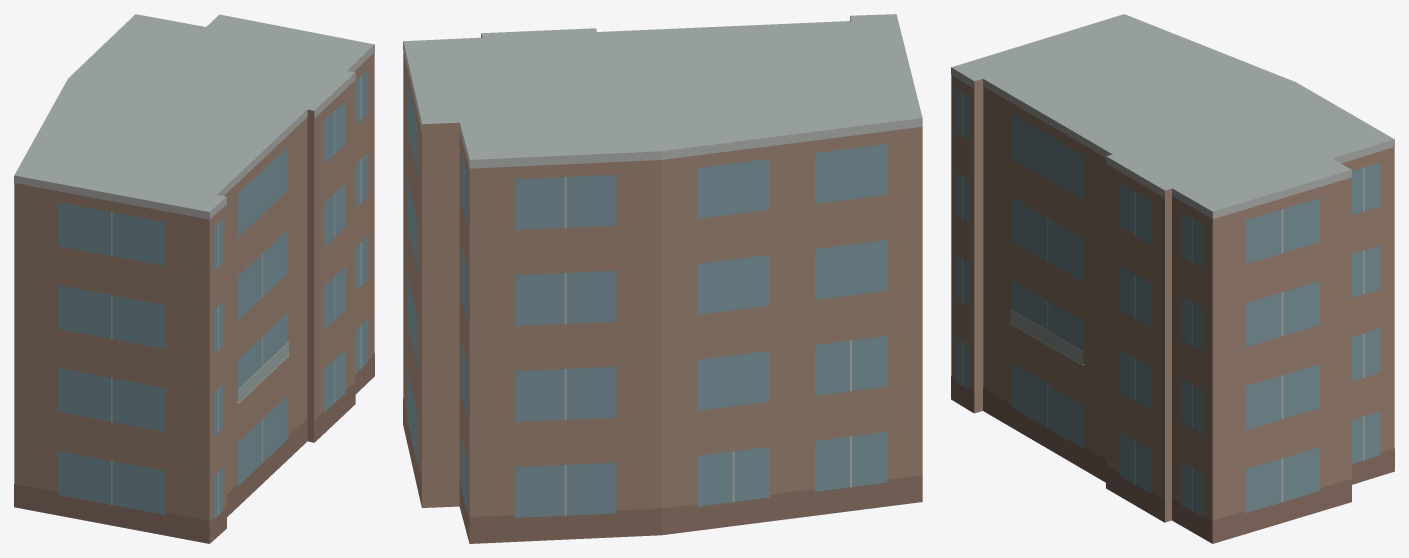
The model's file is survey-upis-32731348.glb.
3 renders of one model, left to right at view 1: azimuth 30°, elevation 25°; view 2: azimuth 150°, elevation 25°; view 3: azimuth 270°, elevation 25°, orthographic. The views are drawn at different scales.
Parts seen in each view (by area): view 1: survey-upis-32731348.tmp; view 2: survey-upis-32731348.tmp; view 3: survey-upis-32731348.tmp.
Part boxes in pixels (bbox=[...]): survey-upis-32731348.tmp: bbox=[14, 14, 374, 543]; survey-upis-32731348.tmp: bbox=[403, 14, 922, 543]; survey-upis-32731348.tmp: bbox=[951, 14, 1394, 543].
Size of the model in its own units: 13.8 by 10.8 by 13.08.
